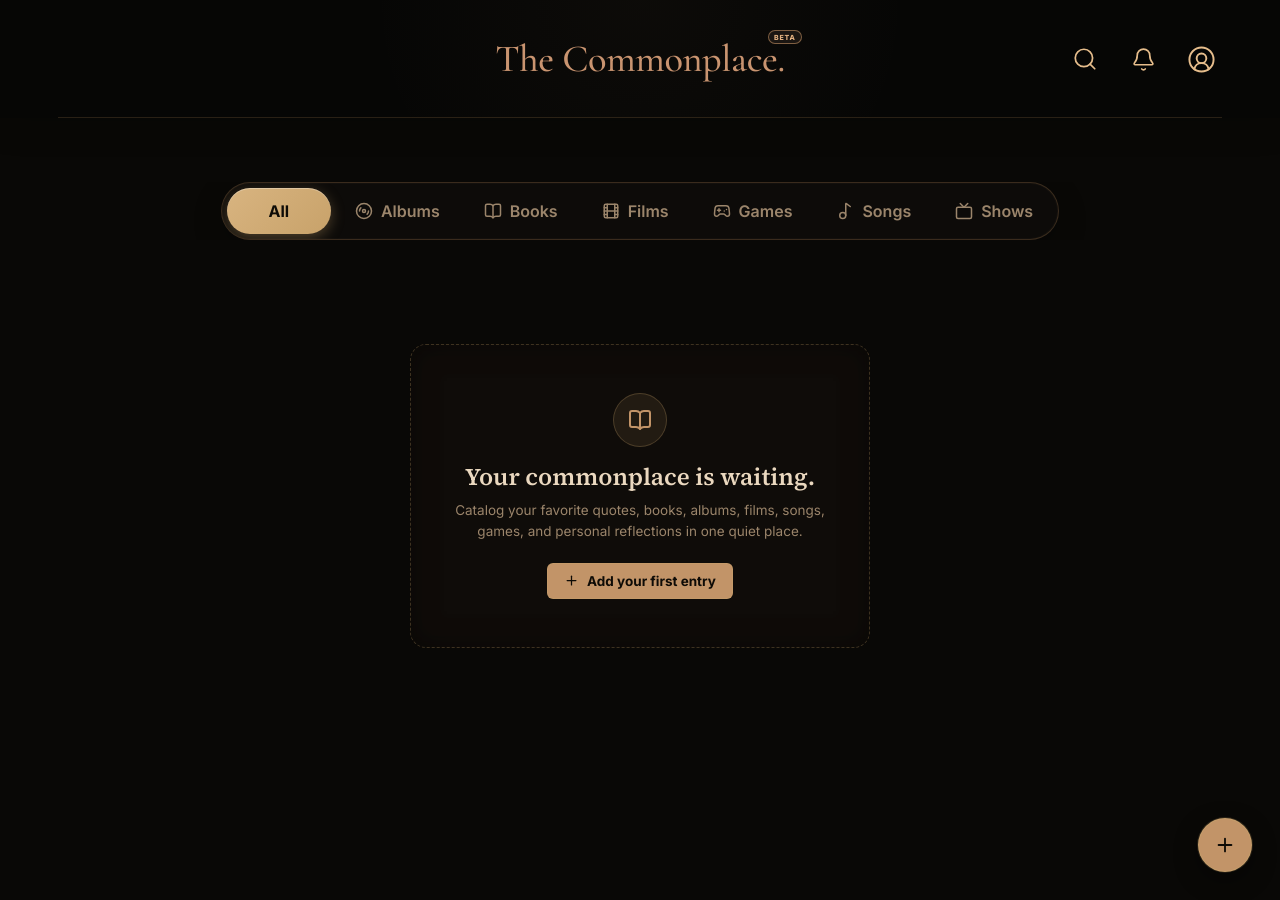
application shell › closes the profile menu when another header popup opens
Click the button named "User Profile & Settings": [1201, 59] box 1180,38 -> 1222,80
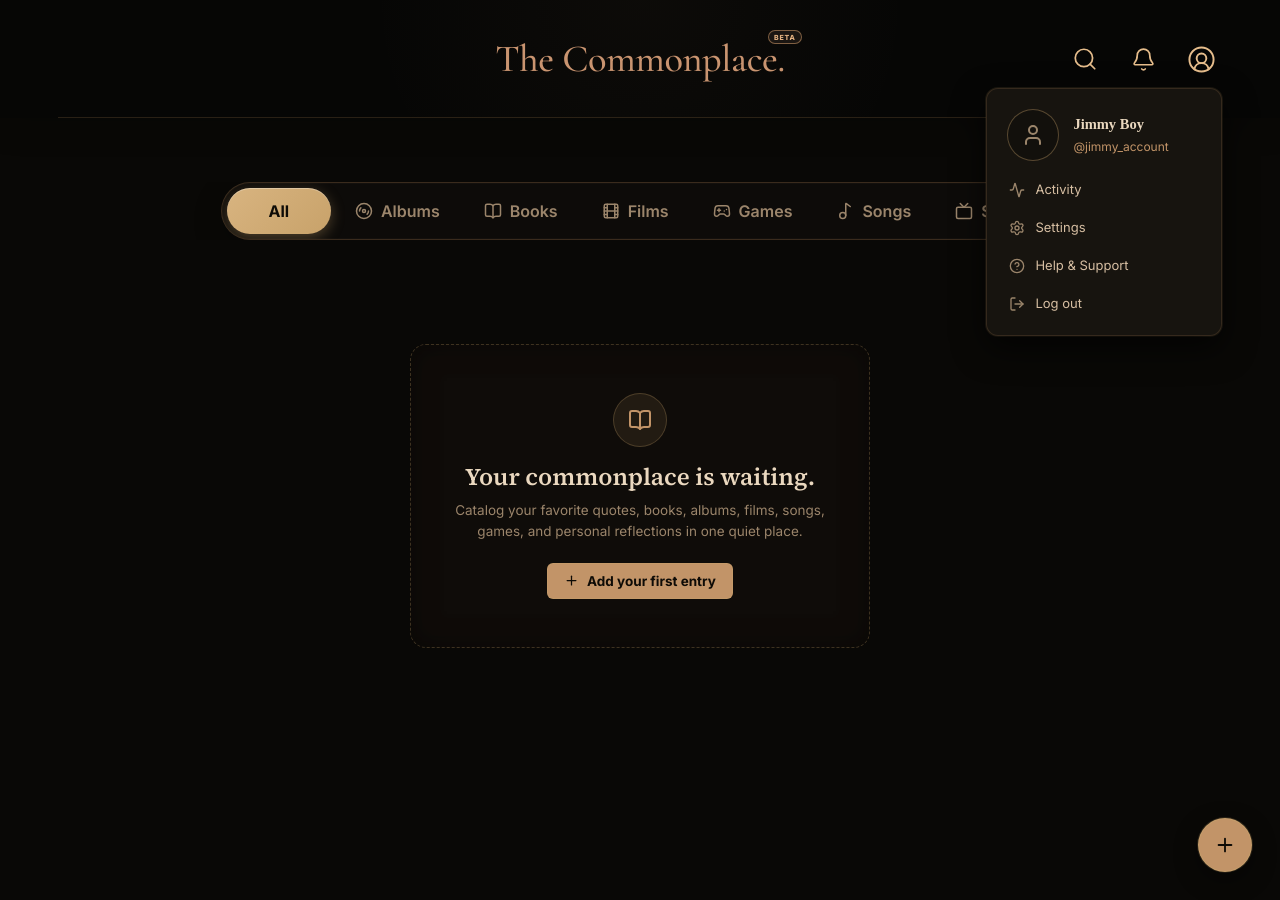
Expected: the button "Log out" is shown, 999,285 -> 1209,323
Click the button named "Notifications": [1143, 59] box 1122,37 -> 1164,81
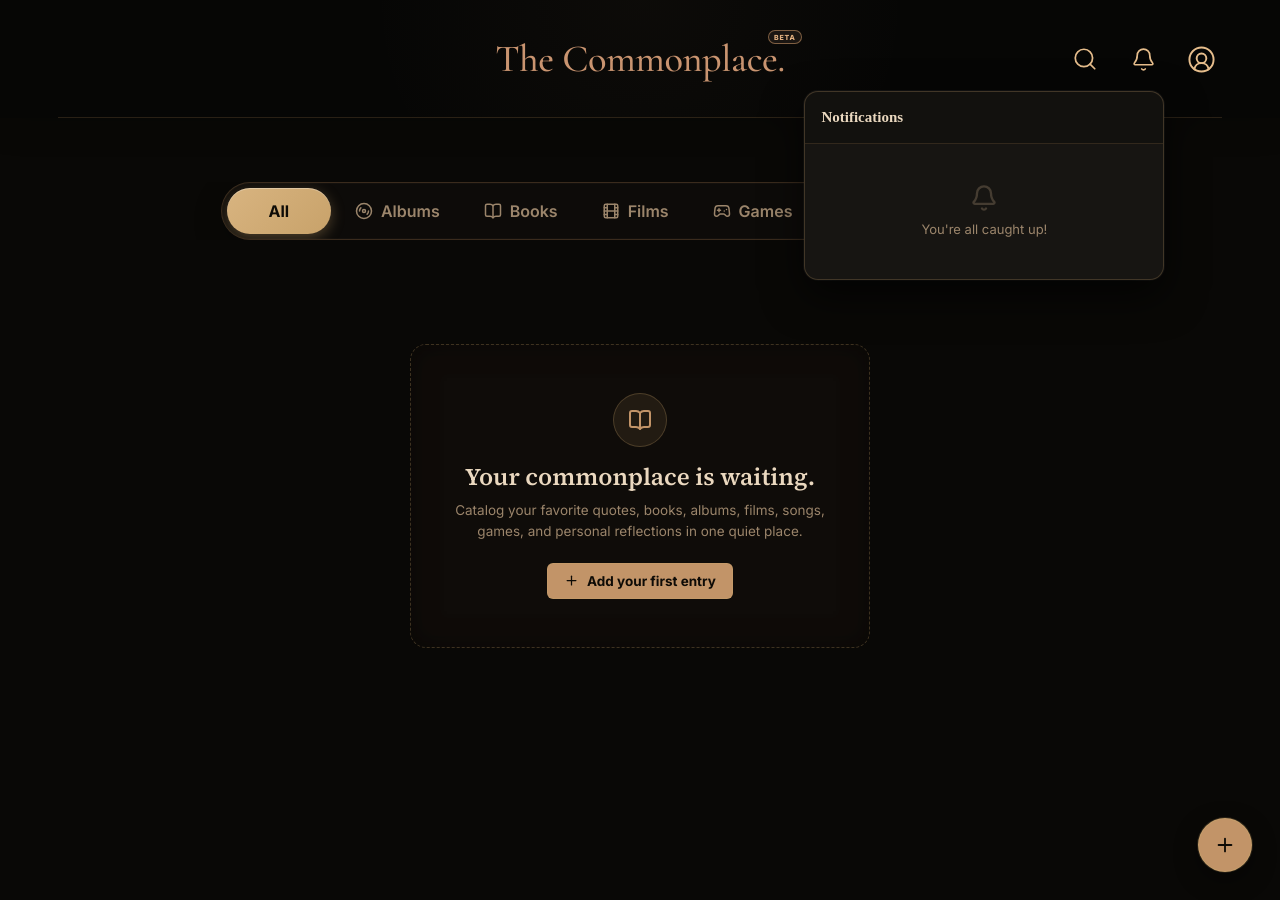
Expected: the button "Log out" is gone
Expected: the text "You're all caught up!" is shown, 922,220 -> 1047,239
